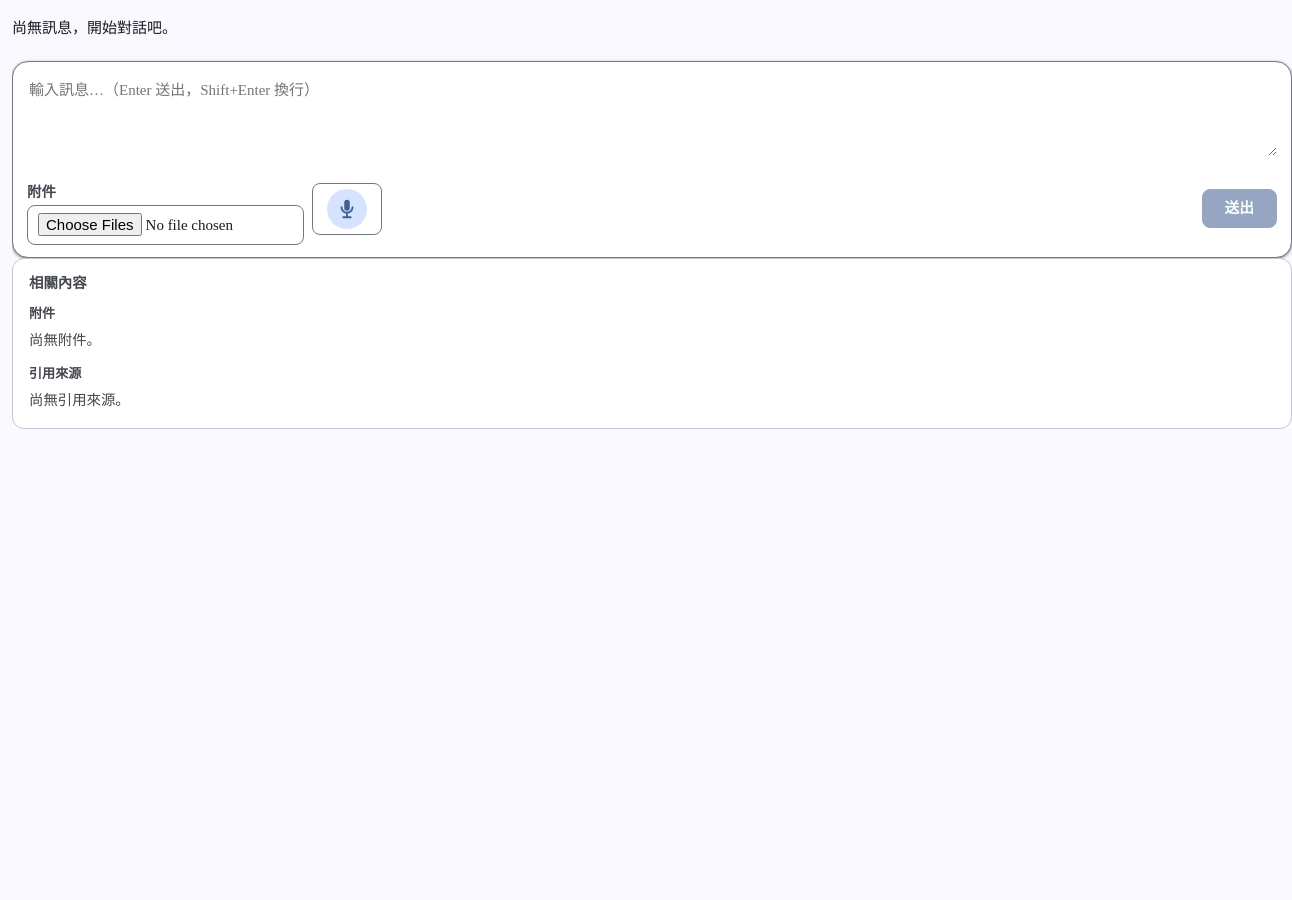
MessageThread shows the server's own answer (11-app-shell/phase-3, ADR 0017) › shows exactly as many citation rows in the related panel as the server message's citations carry
Check: the text "尚無訊息，開始對話吧。" is shown, box [12,20,177,36]
Type "保固期限是多久？" into the text box labelled "訊息" at (652, 115), box [27,74,1277,156]
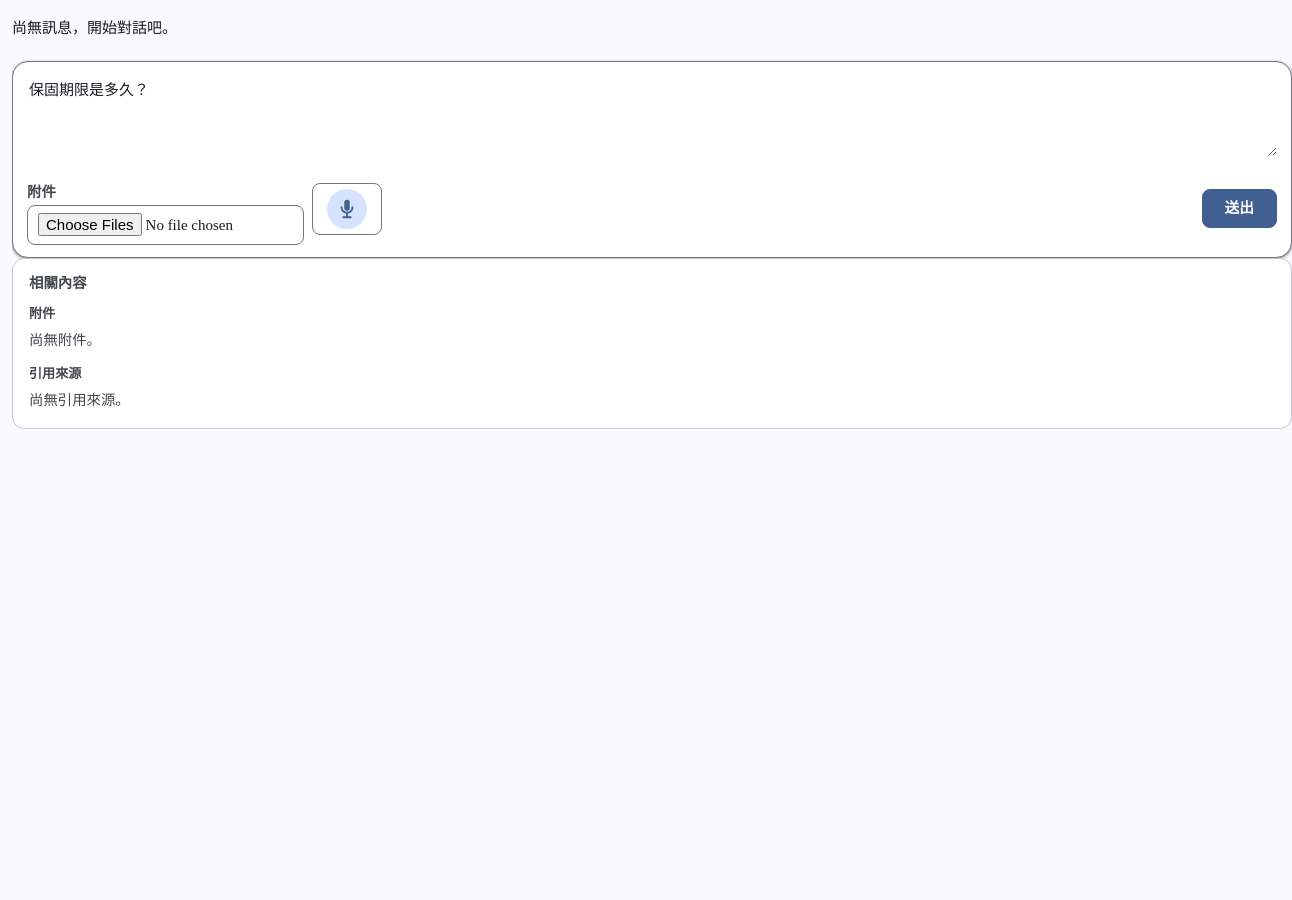
Click the button "送出" at (1239, 209), box [1202,189,1277,228]
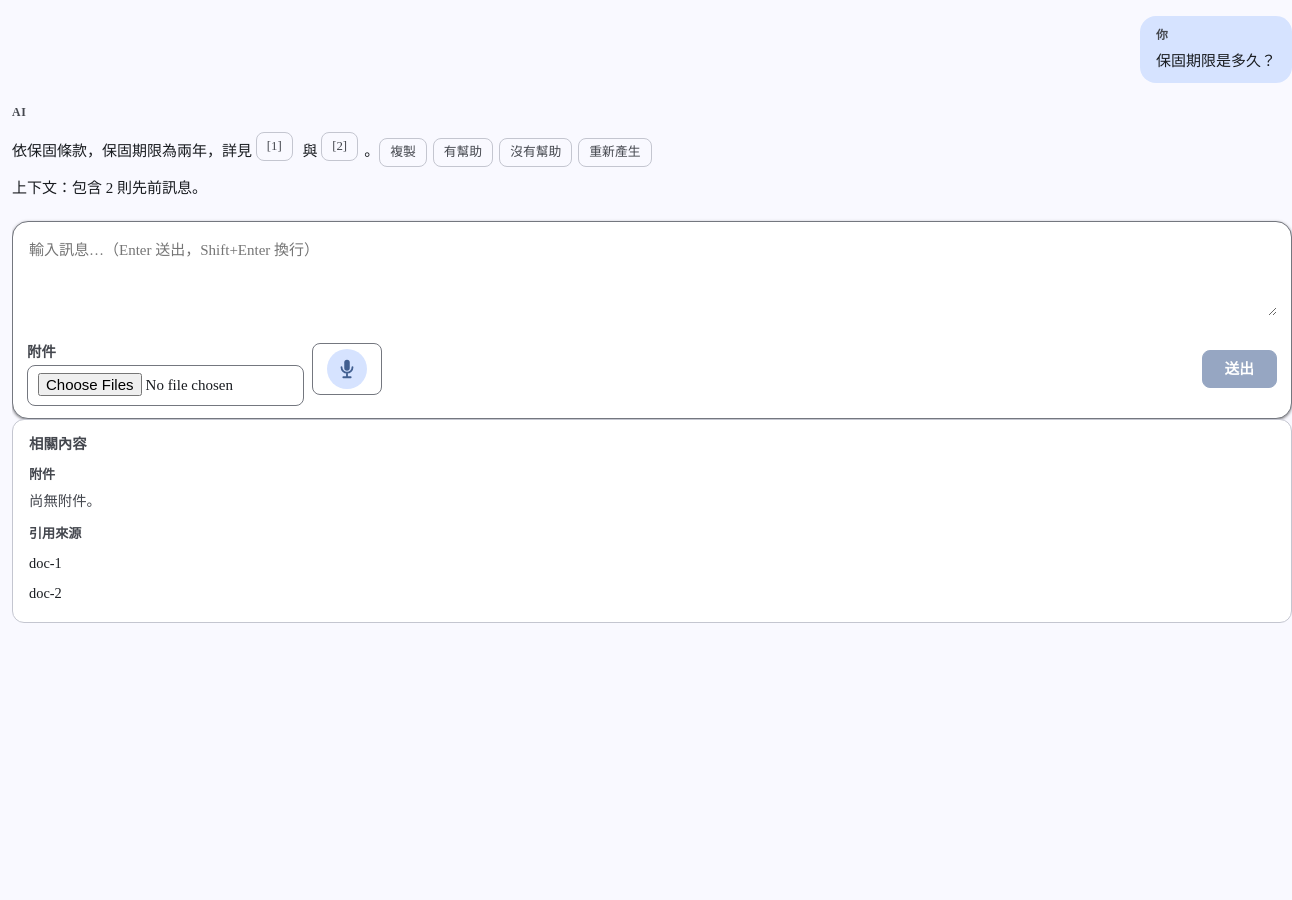
Check: the list item "AI 依保固條款，保固期限為兩年，詳見 [1] 與 [2] 。 複製 有幫助 沒有幫助 重新產生" is shown, box [12,105,652,167]
